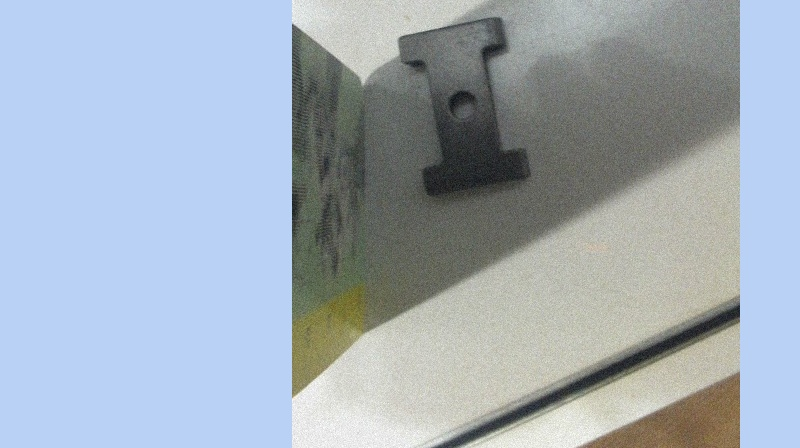O002: (395, 13, 531, 198)
